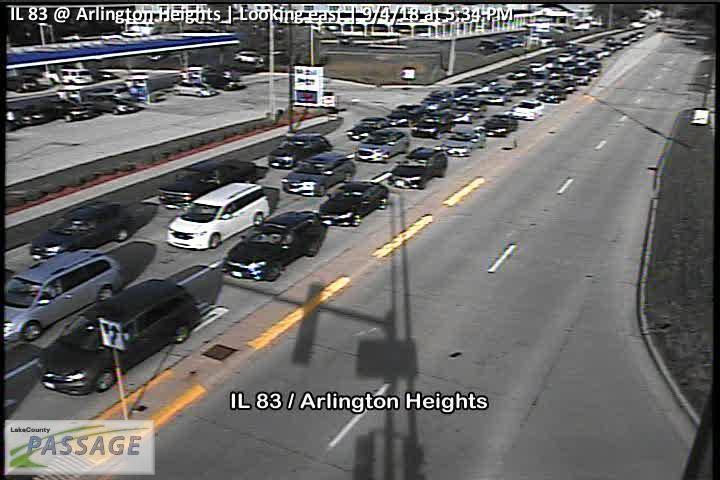SUV: (33, 278, 203, 398), (1, 248, 124, 356), (165, 183, 269, 252), (78, 82, 141, 113)
Sedan: (217, 211, 327, 282), (27, 199, 133, 259), (157, 159, 260, 210), (316, 180, 389, 229), (281, 154, 356, 197), (387, 145, 447, 191), (267, 132, 332, 168), (353, 127, 411, 163), (437, 127, 487, 158), (37, 98, 94, 123), (201, 63, 245, 92), (343, 115, 392, 140), (413, 112, 455, 137), (386, 102, 426, 128), (478, 112, 518, 137), (170, 76, 216, 96), (510, 96, 545, 119)
